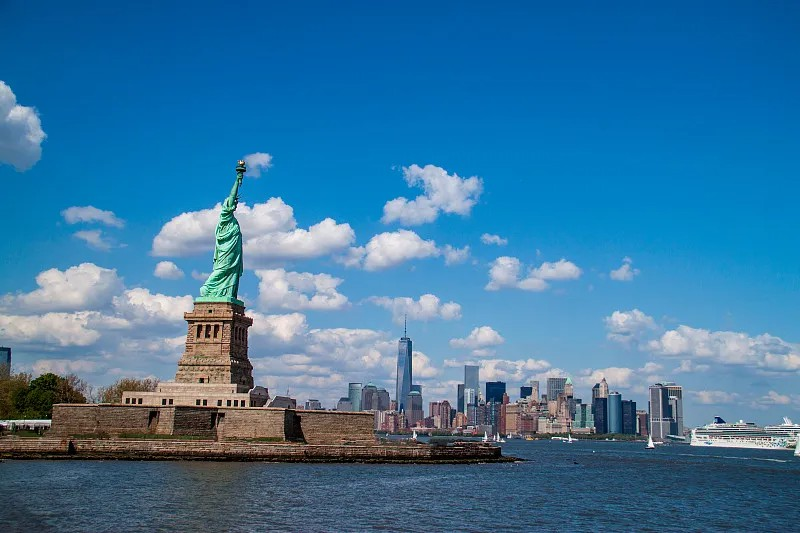SL: (174, 159, 254, 390)
